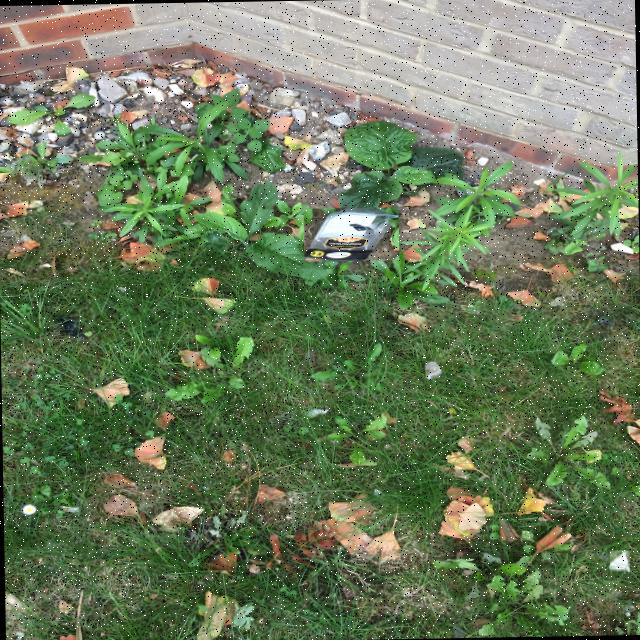Disposable food container: (305, 207, 397, 261)
Plastic film: (305, 208, 399, 253), (426, 362, 440, 378)
Unlabeled litter: (610, 550, 629, 571)
